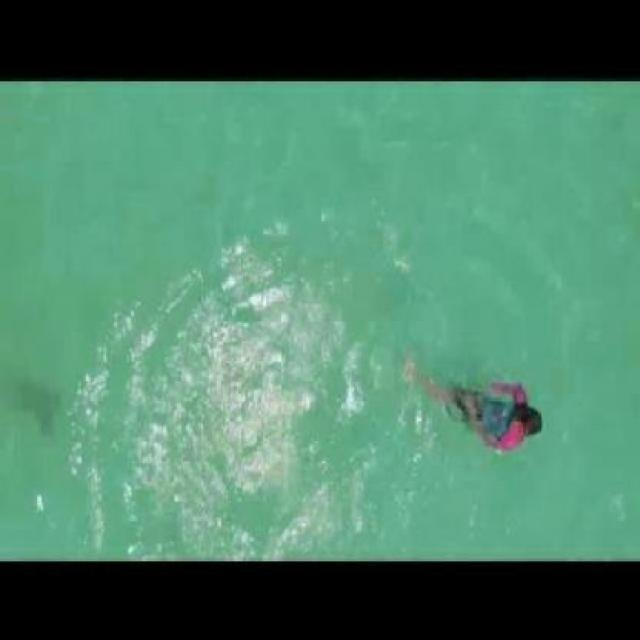drowning: (408, 354, 544, 461)
